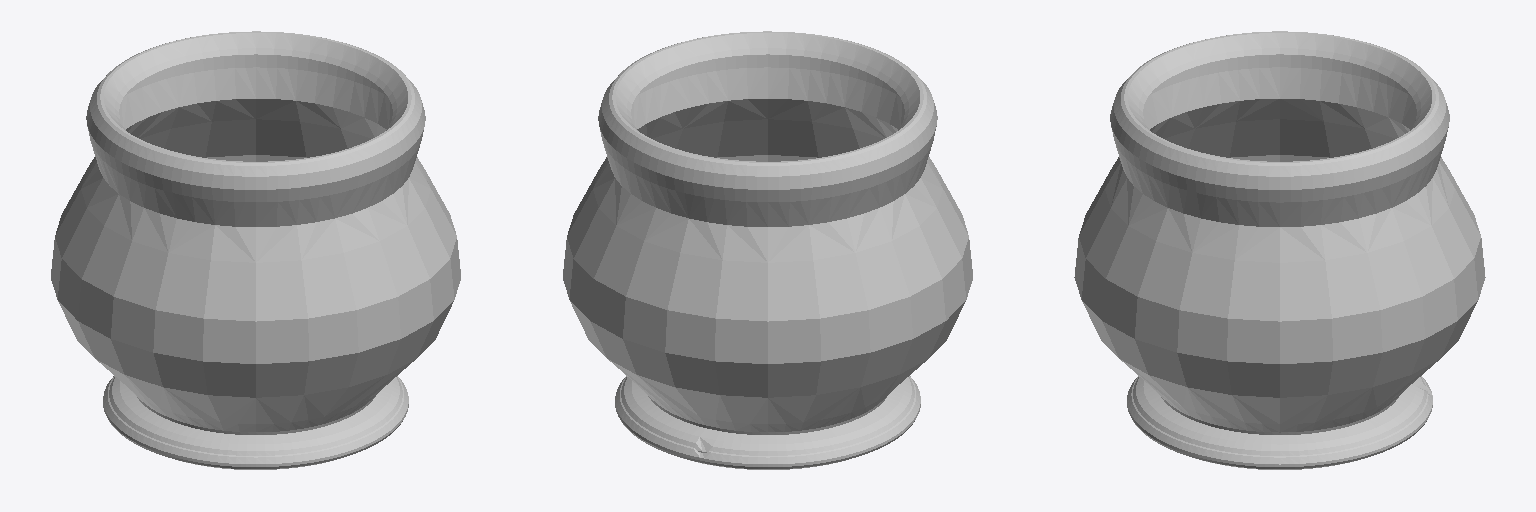
Rendered from Fish_And_Bowl.obj.
3 renders of one model, left to right at view 1: azimuth 30°, elevation 25°; view 2: azimuth 150°, elevation 25°; view 3: azimuth 270°, elevation 25°, orthographic.
Visible parts, largest first — view 1: revolvedSurface1; view 2: revolvedSurface1; view 3: revolvedSurface1.
Boxes of the visible parts, <box> form: revolvedSurface1: <box>51,31,460,469</box>; revolvedSurface1: <box>563,31,972,469</box>; revolvedSurface1: <box>1074,31,1485,469</box>.
Bounding box in the file's own units: 10.18 × 8.67 × 10.18.